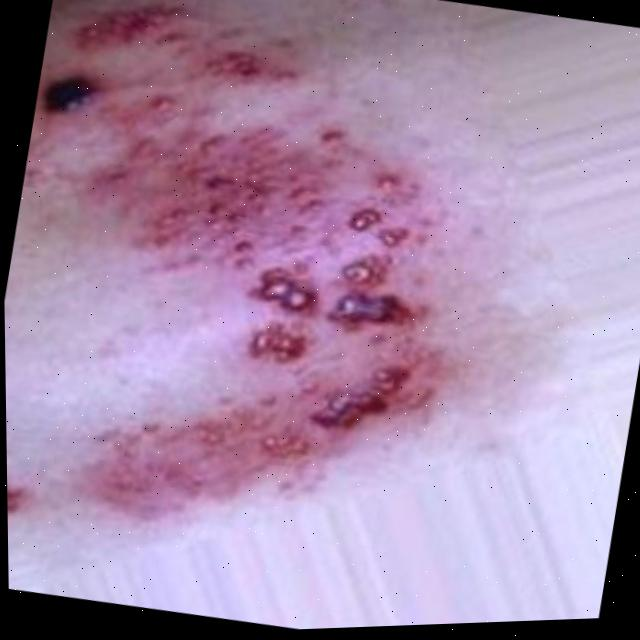Shingles: (0, 0, 497, 601)
